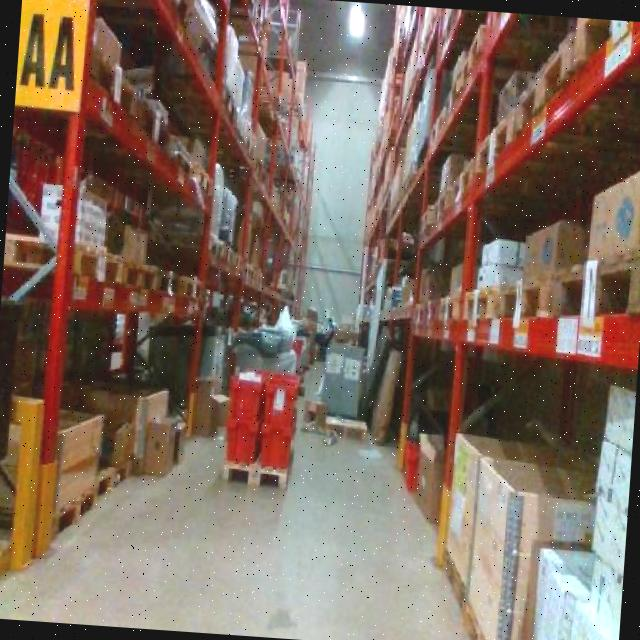pallet: (513, 21, 579, 143), (569, 250, 640, 327), (500, 268, 593, 326), (48, 472, 106, 549), (471, 106, 517, 182), (213, 452, 295, 494), (68, 244, 128, 290), (88, 455, 139, 503), (468, 280, 518, 328), (318, 411, 372, 444), (112, 262, 166, 292), (156, 268, 206, 296), (428, 294, 464, 328), (410, 298, 434, 322)
